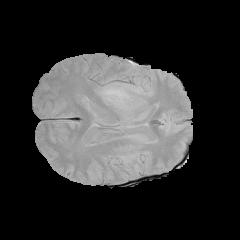glioma: (99, 83, 141, 105)
